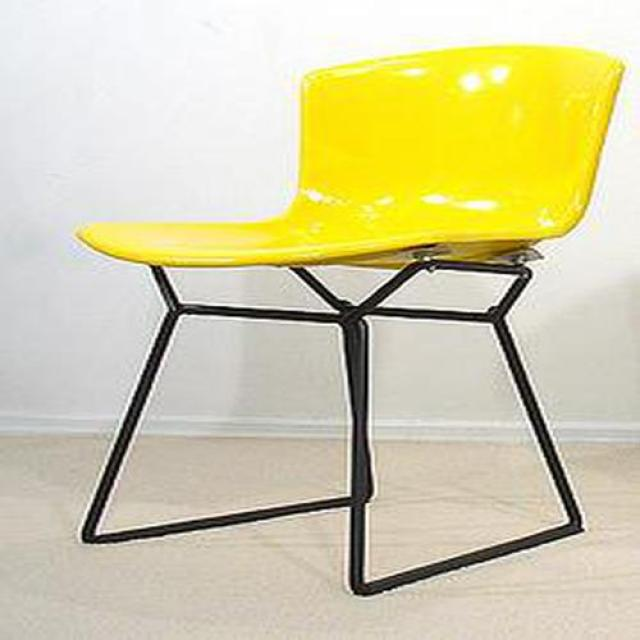chair: (73, 45, 627, 599)
